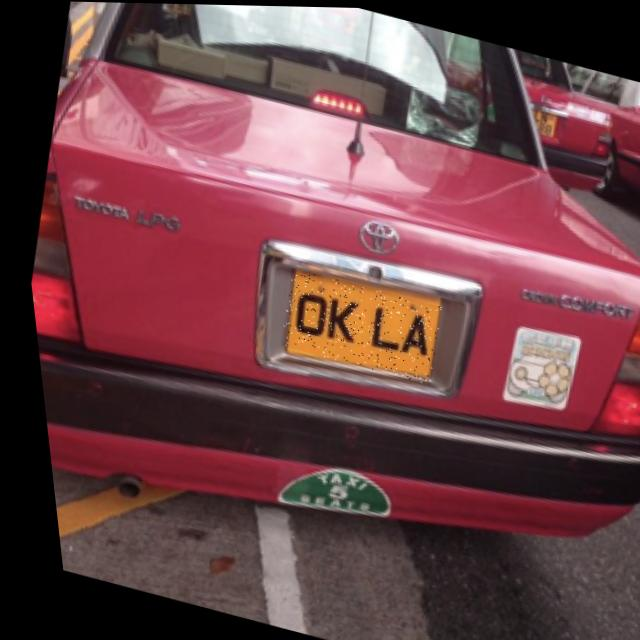license_plate: (266, 266, 441, 384)
